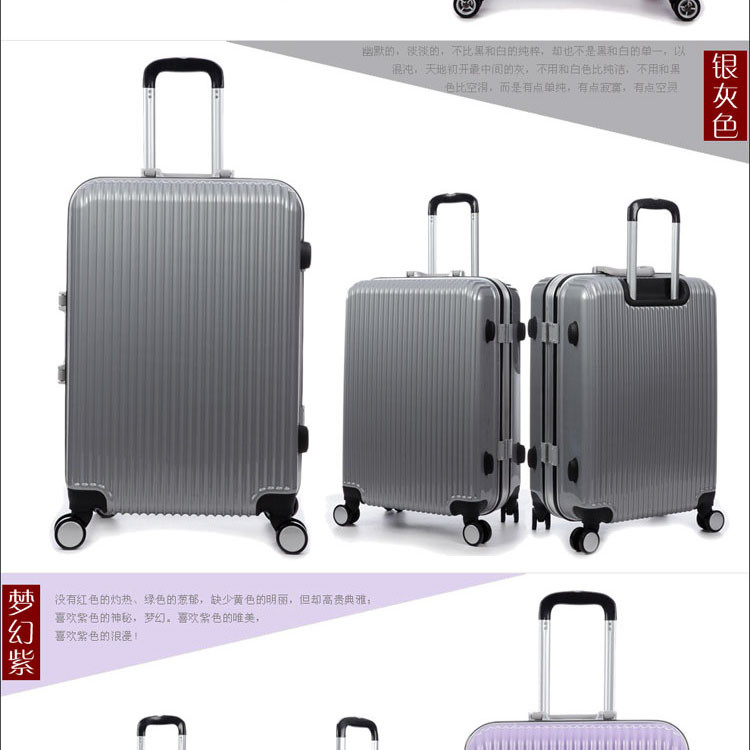luggage: (53, 56, 310, 555), (331, 191, 527, 548), (528, 198, 724, 555)
